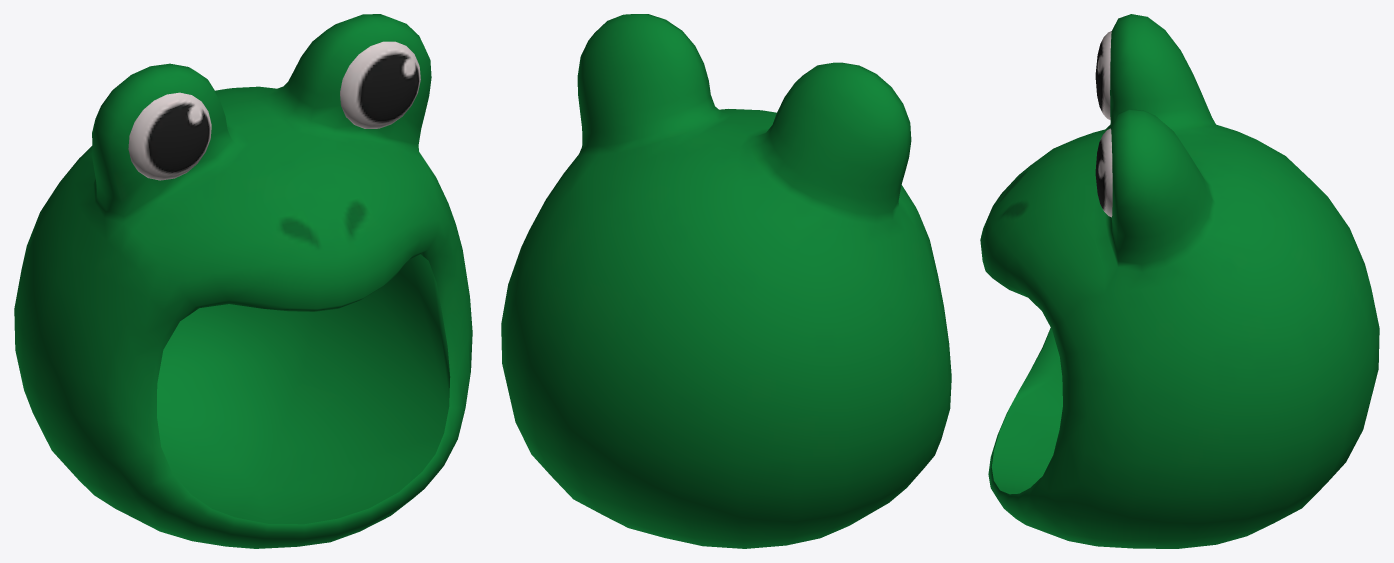
Rendered from CapCostumeFrog0.glb.
3 renders of one model, left to right at view 1: azimuth 30°, elevation 25°; view 2: azimuth 150°, elevation 25°; view 3: azimuth 270°, elevation 25°, orthographic. The views are drawn at different scales.
Visible parts, largest first — view 1: Body__mCap; view 2: Body__mCap; view 3: Body__mCap.
Boxes of the visible parts, x1=… form: Body__mCap: x1=14, y1=14, x2=472, y2=548; Body__mCap: x1=501, y1=14, x2=951, y2=548; Body__mCap: x1=980, y1=14, x2=1379, y2=548.
Bounding box in the file's own units: 7.69 × 8.57 × 7.01.
Materials: 1 (1 with a texture image).
